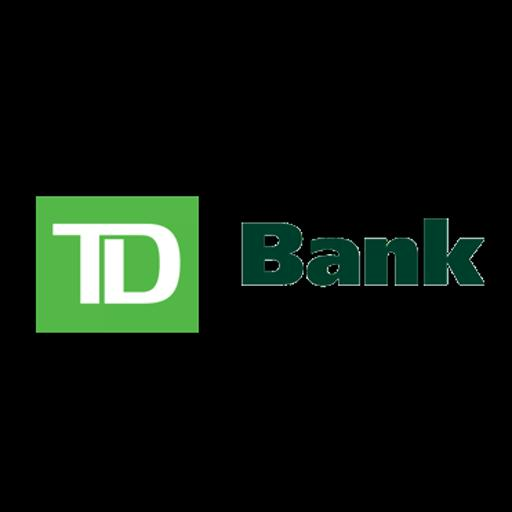TD Bank Group: (0, 170, 512, 341)
